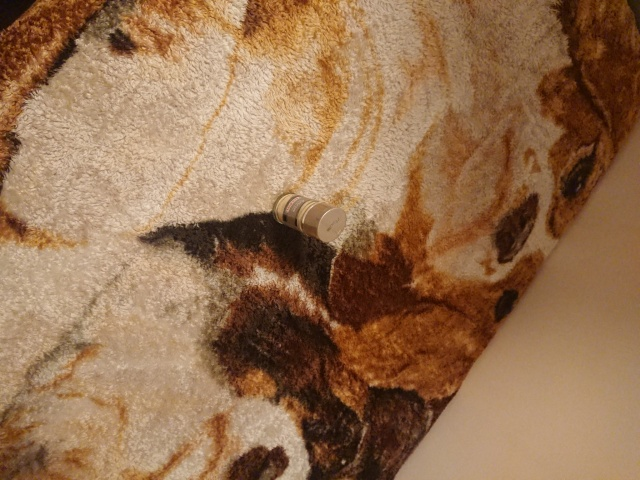Kotanyi Garlic Granules 70g: (271, 191, 349, 245)
